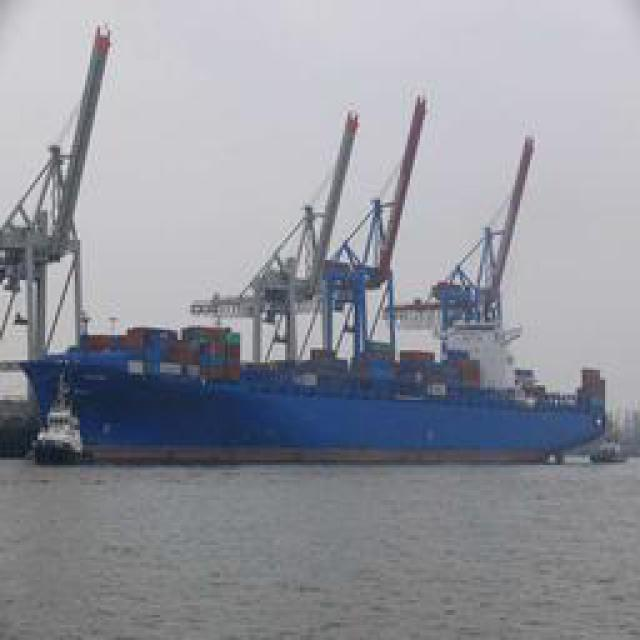Ship: (34, 77, 609, 467)
